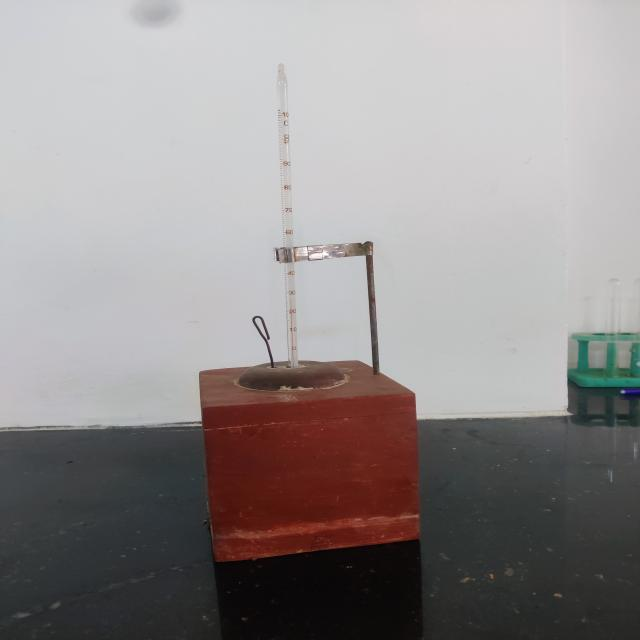Calorimeter: (149, 44, 492, 596)
